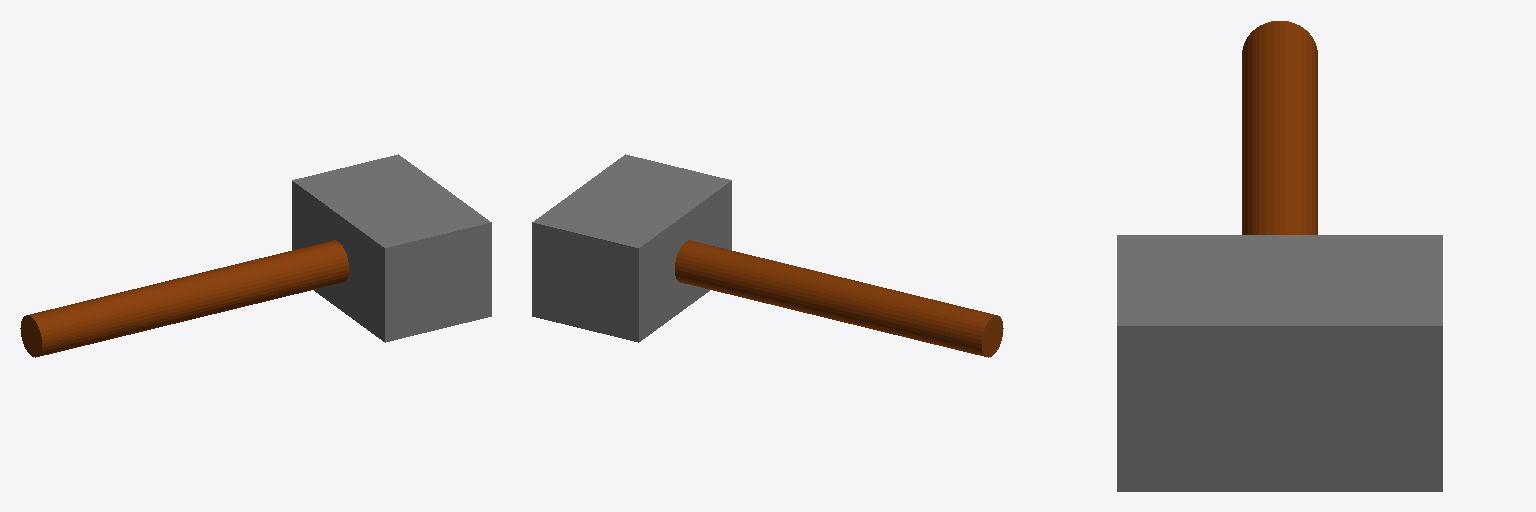
The robot description file, URDF, robot "handle_head":
<?xml version="1.0"?>
<robot name="handle_head">

  <link name="handle_head">
    <!-- Handle -->
    <visual>
              <origin xyz="0 0 0" rpy="0 -1.5707963267948966 0"/>
        <geometry>
          <cylinder length="0.15166716609359604" radius="0.009295796819172494"/>
        </geometry>
        
      <material name="brown">
        <color rgba="0.55 0.27 0.07 1.0"/>
      </material>
    </visual>
    <collision>
              <origin xyz="0 0 0" rpy="0 -1.5707963267948966 0"/>
        <geometry>
          <cylinder length="0.15166716609359604" radius="0.009295796819172494"/>
        </geometry>
        
    </collision>

    <!-- Head -->
    <visual>
              <origin xyz="0.10216280868124301 0 0" rpy="0 0 0"/>
        <geometry>
          <box size="0.05265845126888999 0.07956455611286994 0.04448133332445288"/>
        </geometry>
        
      <material name="gray">
        <color rgba="0.5 0.5 0.5 1.0"/>
      </material>
    </visual>
    <collision>
              <origin xyz="0.10216280868124301 0 0" rpy="0 0 0"/>
        <geometry>
          <box size="0.05265845126888999 0.07956455611286994 0.04448133332445288"/>
        </geometry>
        
    </collision>

    <inertial>
      <origin xyz="0.09661306369475016 0 0" rpy="0 0 0"/>
      <mass value="0.3388191667000242"/>
      <inertia ixx="0.0002226458320640457" iyy="0.00035030123955701964" izz="0.00046650270708166897" ixy="0" ixz="0" iyz="0"/>
    </inertial>
  </link>

</robot>

--- What the picture shows (computed from the rendered views, not written in the file) ---
The picture shows the robot from 3 angles, left to right: view 1: azimuth 30°, elevation 25°; view 2: azimuth 150°, elevation 25°; view 3: azimuth 270°, elevation 25°; orthographic projection.
Robot: handle_head — 1 links, 0 joints (none); root link handle_head; default pose: all joints at 0.
Visible links, largest first — view 1: handle_head; view 2: handle_head; view 3: handle_head.
Link boxes in pixels (x1,y1,x2,y2): handle_head: (20,154,491,357); handle_head: (532,154,1003,357); handle_head: (1117,21,1442,491).
Size in the robot's own frame: 0.2043 by 0.0796 by 0.0445 metres.
Geometry: primitives only (box / cylinder / sphere), no mesh files.
